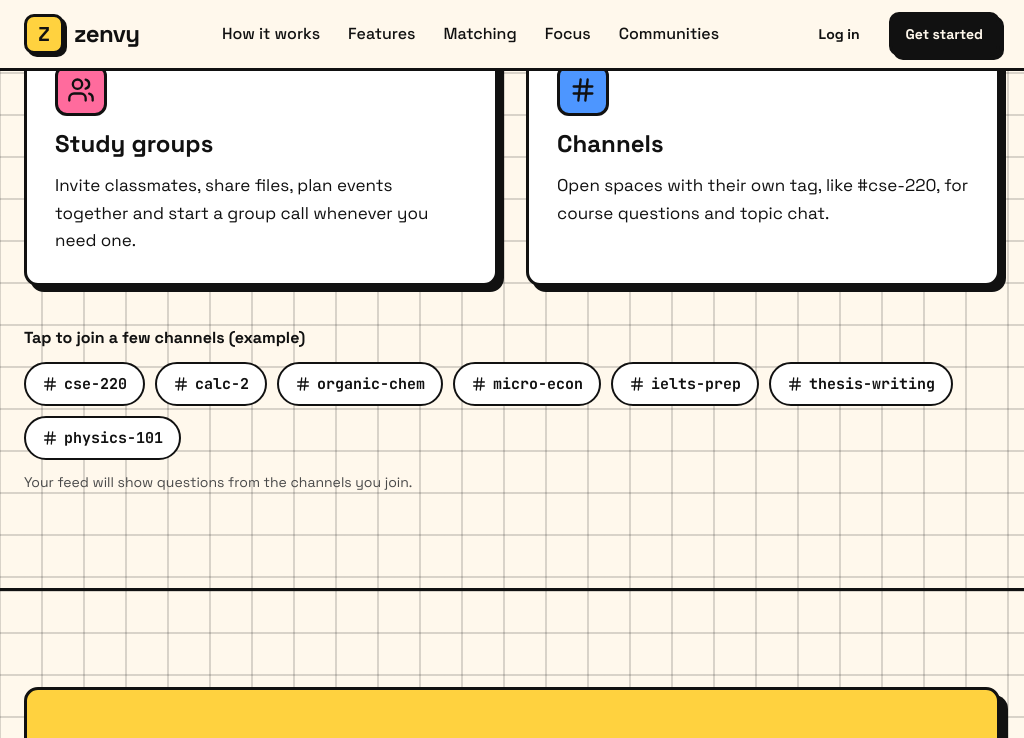
LandingPage › lets visitors join example channels
This screenshot has width=1024, height=738.
(page scrolled)
What coordinates should you click on to do the following:
click the button "cse-220"
I would click on:
 (84, 384)
Its box is [24,362,145,406].
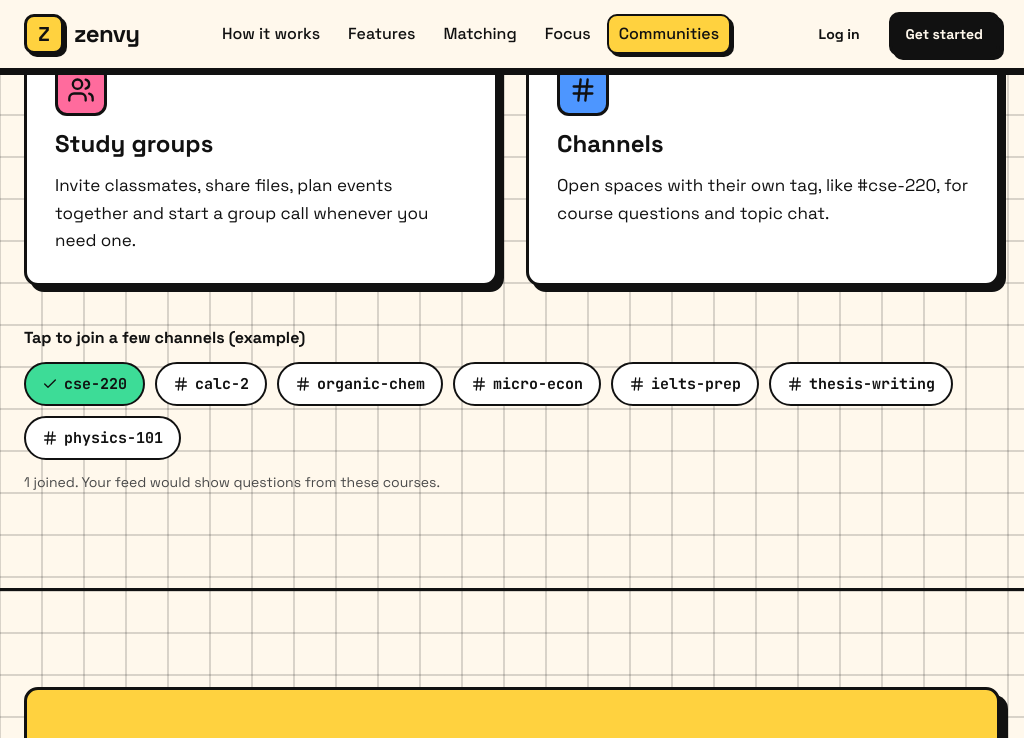
Expected: the text "1 joined. Your feed would show questions from these courses." is shown, [24,473,440,491]
